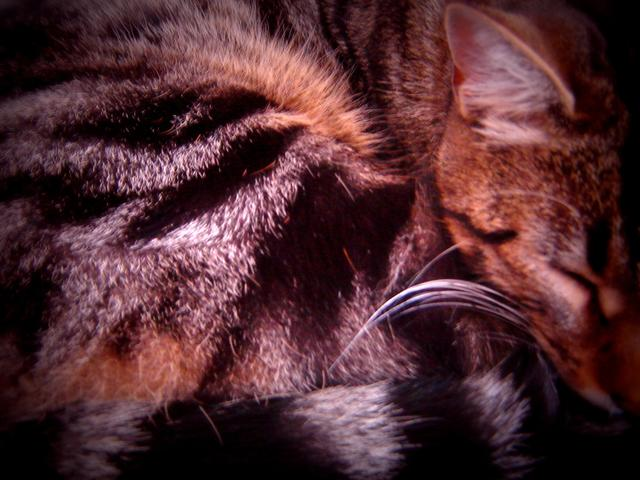cat: (45, 16, 640, 437)
